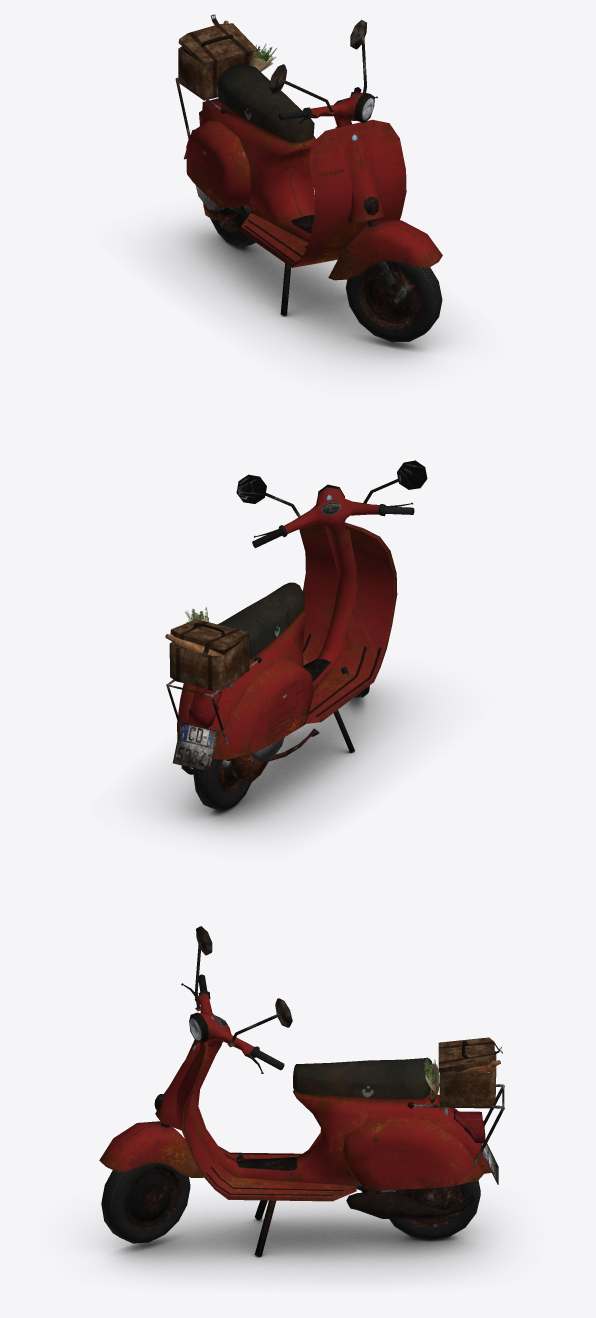
File: obj_old_scooter.glb
3 renders of one model, top to bottom at view 1: azimuth 30°, elevation 25°; view 2: azimuth 150°, elevation 25°; view 3: azimuth 270°, elevation 25°, orthographic.
Parts seen in each view (by area): view 1: Object_4, Object_3; view 2: Object_4, Object_3; view 3: Object_4, Object_3.
Part boxes in pixels (x1,y1,x2,y2): Object_4: (175, 14, 442, 342); Object_3: (130, 209, 472, 379); Object_4: (165, 460, 427, 810); Object_3: (125, 671, 453, 845); Object_4: (99, 926, 504, 1256); Object_3: (74, 1191, 514, 1285).
Bounding box in the file's own units: 164 × 155 × 289.
Materials: 2 (2 with a texture image).
